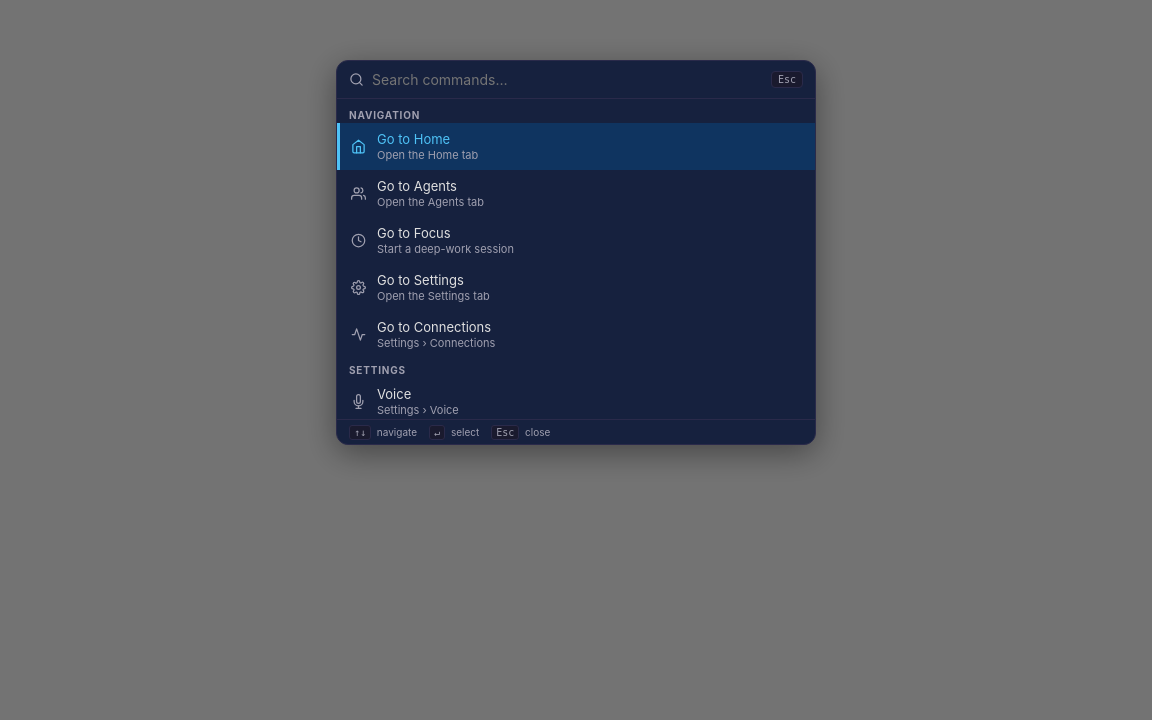
Test: CommandPalette › shows empty state for unknown query
Type "xyznonexistent" into the field with placeholder "Search commands…". click: (567, 80)
box: 372,71 -> 763,88
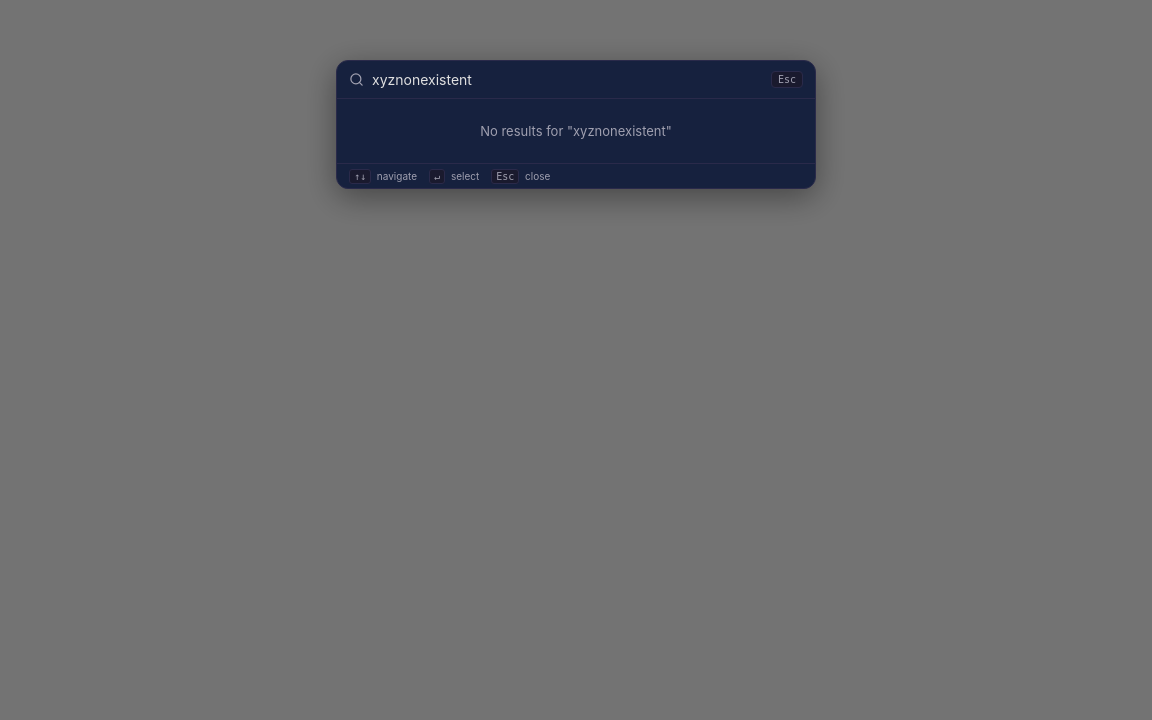
Result: the text "No results for \"xyznonexistent\"" is shown at 480,123 -> 672,139
